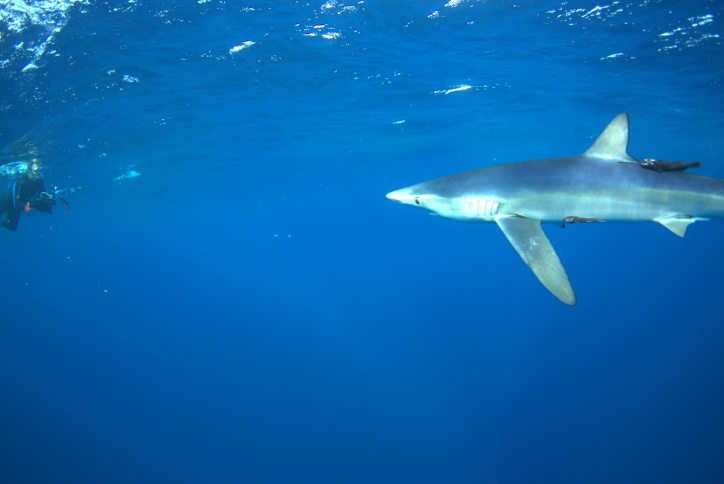Azul: (378, 101, 724, 310)
